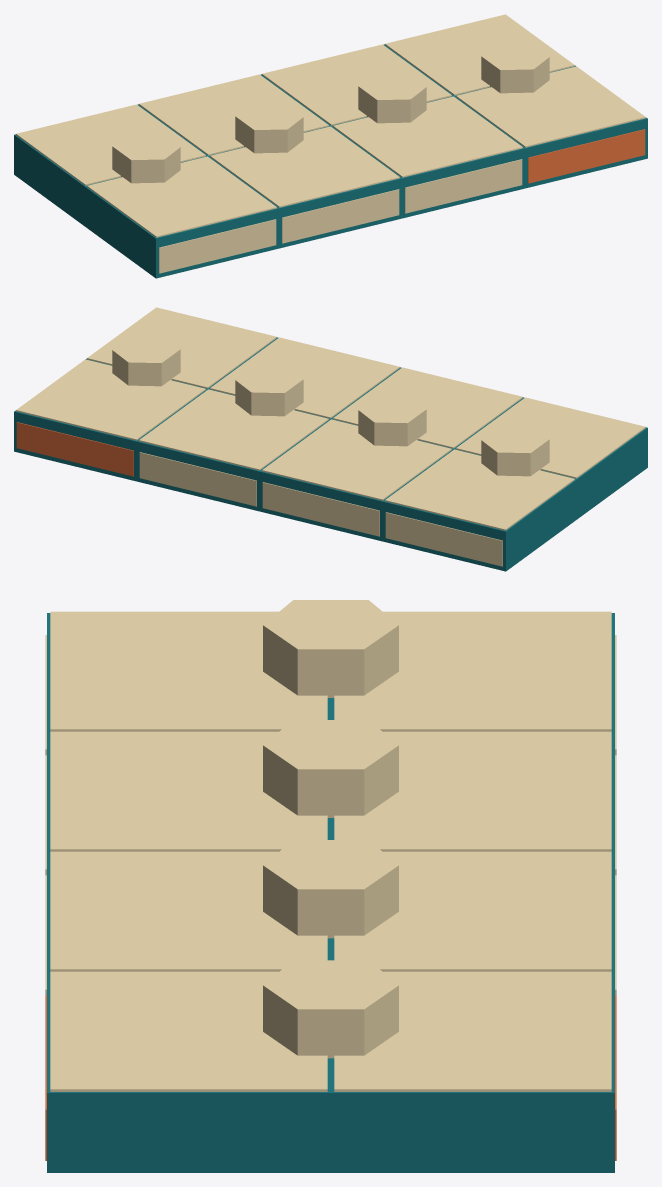
Rendered from plate-lod-2.glb.
The picture shows the model from 3 angles, top to bottom: view 1: azimuth 30°, elevation 25°; view 2: azimuth 150°, elevation 25°; view 3: azimuth 270°, elevation 25°; orthographic projection. The views are drawn at different scales.
Parts seen in each view (by area): view 1: plate_lod_2; view 2: plate_lod_2; view 3: plate_lod_2.
Part boxes in pixels (<box>): plate_lod_2: <box>14,14,647,278</box>; plate_lod_2: <box>14,307,647,571</box>; plate_lod_2: <box>45,600,616,1172</box>.
Bounding box in the file's own units: 4 × 0.5 × 2.01.
